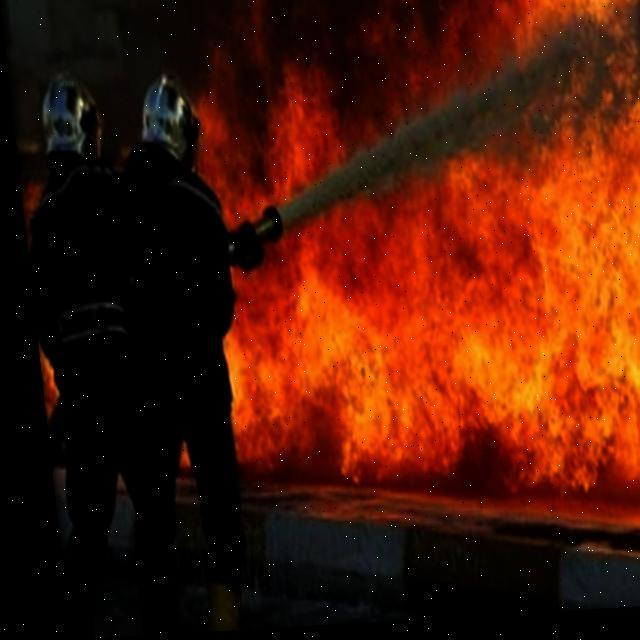Fire: (4, 0, 639, 522)
